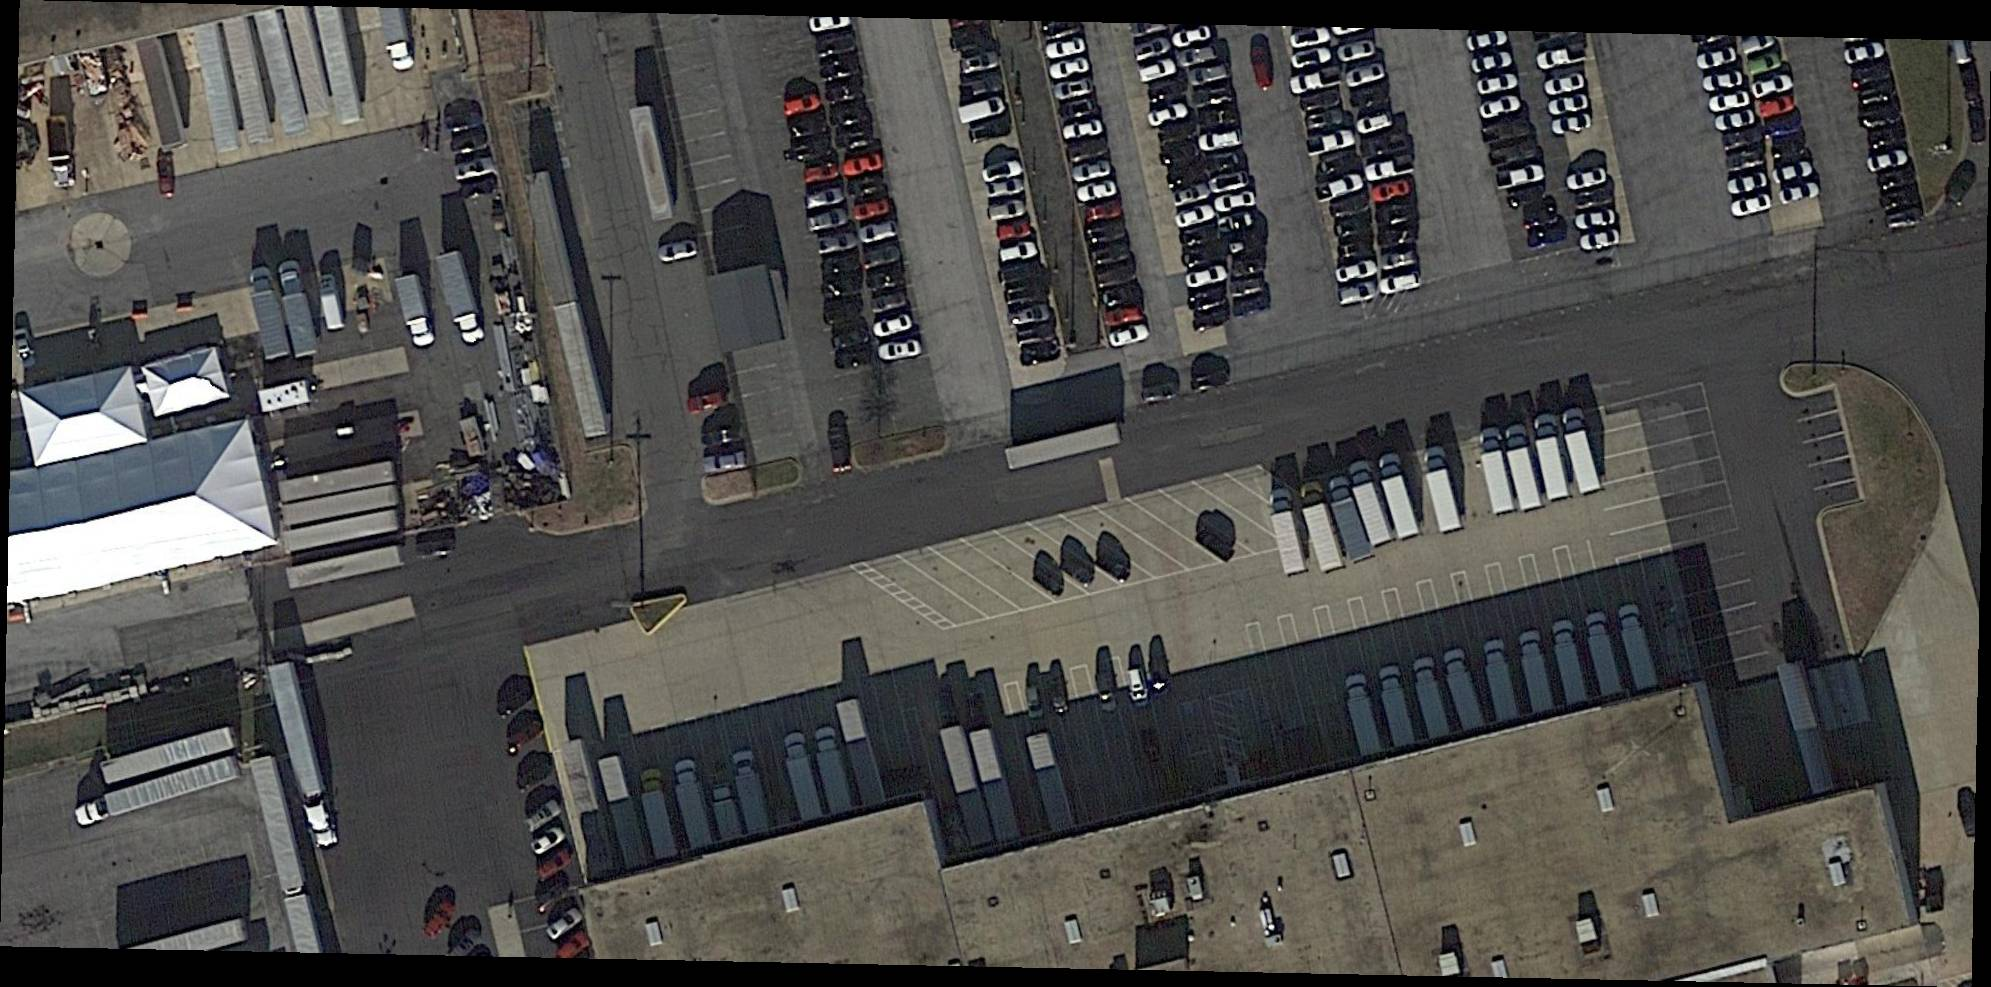large vehicle: (265, 661, 339, 849), (72, 756, 243, 829), (433, 252, 486, 346), (276, 259, 321, 359), (1296, 481, 1346, 573), (1347, 462, 1397, 547), (637, 769, 681, 863), (248, 265, 291, 359), (1375, 455, 1422, 540), (1266, 489, 1310, 578), (783, 732, 827, 822), (1561, 409, 1604, 495), (1421, 447, 1464, 534), (1343, 672, 1385, 761), (672, 760, 714, 849), (1619, 603, 1661, 692), (1583, 615, 1627, 699), (1442, 650, 1486, 733), (730, 749, 771, 837), (1549, 619, 1588, 708), (1378, 666, 1418, 749), (1505, 427, 1545, 511), (1533, 415, 1572, 502), (814, 727, 852, 816), (1412, 658, 1453, 741), (1481, 643, 1521, 724), (1517, 633, 1555, 715), (1478, 431, 1515, 514), (395, 274, 434, 349)
small vehicle: (1936, 163, 1980, 215), (1192, 523, 1242, 567), (316, 272, 349, 332), (1055, 549, 1100, 592), (1091, 545, 1136, 587), (500, 716, 546, 758), (1310, 149, 1362, 184), (1477, 116, 1533, 149), (956, 94, 1009, 128), (1486, 137, 1539, 171), (1861, 144, 1914, 178), (1364, 152, 1420, 184), (1314, 171, 1368, 205), (494, 681, 537, 722), (533, 842, 578, 882), (519, 796, 565, 835), (1305, 126, 1356, 160), (1493, 160, 1548, 192), (422, 896, 458, 940), (526, 821, 570, 857), (1288, 66, 1343, 95), (780, 138, 837, 166), (543, 904, 585, 943), (1535, 43, 1590, 72), (966, 116, 1013, 149), (1026, 563, 1067, 601), (533, 878, 575, 915), (513, 757, 555, 794), (1775, 178, 1823, 210), (998, 258, 1048, 288), (1853, 84, 1900, 116), (1743, 44, 1790, 76), (825, 423, 855, 474), (1750, 69, 1795, 100), (1345, 58, 1390, 90), (805, 206, 852, 236), (1133, 56, 1180, 86), (1288, 43, 1335, 74), (1183, 260, 1230, 291), (1470, 71, 1521, 99), (813, 30, 861, 60), (1856, 104, 1905, 133), (1849, 62, 1897, 91), (1332, 257, 1378, 287), (698, 448, 750, 475), (1091, 663, 1119, 713), (1045, 55, 1095, 83), (1105, 321, 1152, 351), (1001, 281, 1048, 310), (778, 90, 825, 119), (1081, 218, 1128, 248), (844, 173, 888, 205), (1147, 98, 1190, 130), (871, 311, 916, 342), (1089, 238, 1134, 268), (1475, 94, 1526, 121), (448, 155, 496, 183), (1691, 44, 1740, 72), (1017, 339, 1063, 368), (1006, 301, 1051, 330), (1770, 156, 1816, 185), (1963, 93, 1988, 145), (1701, 90, 1754, 116), (1122, 664, 1153, 708), (1768, 133, 1811, 164), (1335, 278, 1378, 309), (1569, 185, 1616, 213), (1517, 203, 1564, 231), (1051, 76, 1098, 104), (1877, 187, 1921, 216), (1729, 192, 1774, 221), (947, 28, 995, 55), (1712, 108, 1760, 135), (1698, 69, 1746, 95), (957, 74, 1003, 102), (956, 48, 1002, 76), (1147, 652, 1175, 697), (1566, 165, 1611, 193), (1525, 224, 1571, 252), (1374, 199, 1420, 227), (1081, 196, 1122, 226), (1865, 122, 1907, 152), (1350, 83, 1395, 111), (1164, 161, 1206, 192), (1062, 116, 1107, 144), (1298, 88, 1343, 116), (1093, 260, 1136, 290), (1190, 306, 1233, 335), (554, 929, 592, 962), (1044, 36, 1093, 61), (1719, 126, 1766, 152), (1286, 25, 1333, 52), (1249, 44, 1276, 91), (1129, 36, 1173, 64), (1327, 193, 1371, 221), (1145, 77, 1187, 107), (979, 158, 1025, 184), (1189, 368, 1234, 395), (1468, 50, 1514, 76), (1840, 42, 1886, 69), (816, 227, 860, 255), (1101, 281, 1144, 309), (1762, 111, 1806, 138), (1180, 243, 1223, 271), (876, 337, 923, 362), (816, 58, 863, 84), (1463, 29, 1510, 55), (1157, 119, 1197, 149), (1186, 285, 1227, 314), (802, 185, 847, 212), (995, 239, 1040, 265), (686, 389, 730, 415), (1503, 183, 1548, 210), (1376, 272, 1421, 299), (1102, 304, 1144, 332), (1368, 130, 1409, 158), (1875, 166, 1917, 194), (1175, 202, 1216, 230), (827, 325, 872, 351), (822, 276, 867, 301), (842, 151, 888, 177), (1547, 91, 1592, 117), (1726, 171, 1771, 197), (1171, 25, 1216, 51), (1065, 138, 1111, 164), (656, 239, 700, 265), (1376, 225, 1420, 252), (1371, 178, 1415, 205), (1075, 177, 1119, 203), (1757, 91, 1798, 119), (1211, 189, 1258, 213), (1550, 113, 1595, 138), (1355, 111, 1399, 136), (1194, 84, 1238, 109), (1070, 158, 1115, 183), (1138, 380, 1180, 406), (1335, 37, 1376, 64), (1159, 142, 1201, 169), (828, 105, 874, 130), (1543, 72, 1588, 97), (1573, 207, 1619, 231), (1187, 62, 1233, 86), (1176, 44, 1222, 69), (1172, 182, 1211, 210), (983, 177, 1026, 202), (822, 301, 865, 326), (823, 83, 866, 108), (1016, 321, 1056, 348), (832, 349, 876, 373), (442, 109, 486, 133), (1577, 227, 1621, 252), (869, 290, 910, 315), (1045, 675, 1070, 716), (447, 131, 489, 156), (1208, 170, 1249, 196), (1335, 213, 1373, 241), (786, 116, 829, 140), (1724, 147, 1768, 171), (1058, 97, 1101, 121), (1197, 107, 1242, 130), (1338, 235, 1376, 262), (836, 124, 877, 149), (867, 268, 907, 293), (802, 161, 842, 187), (1178, 224, 1218, 249), (994, 218, 1035, 243), (860, 220, 900, 244), (987, 199, 1027, 224), (863, 245, 902, 271), (1307, 107, 1345, 132), (700, 426, 742, 448), (852, 198, 891, 222), (1380, 250, 1420, 274), (1882, 210, 1921, 234), (819, 254, 862, 276), (156, 154, 176, 199), (1197, 130, 1243, 150), (1023, 683, 1048, 722), (1208, 150, 1246, 174), (1219, 232, 1261, 254), (1232, 296, 1272, 318), (1216, 211, 1255, 232), (1230, 257, 1266, 277), (1230, 278, 1267, 297)
